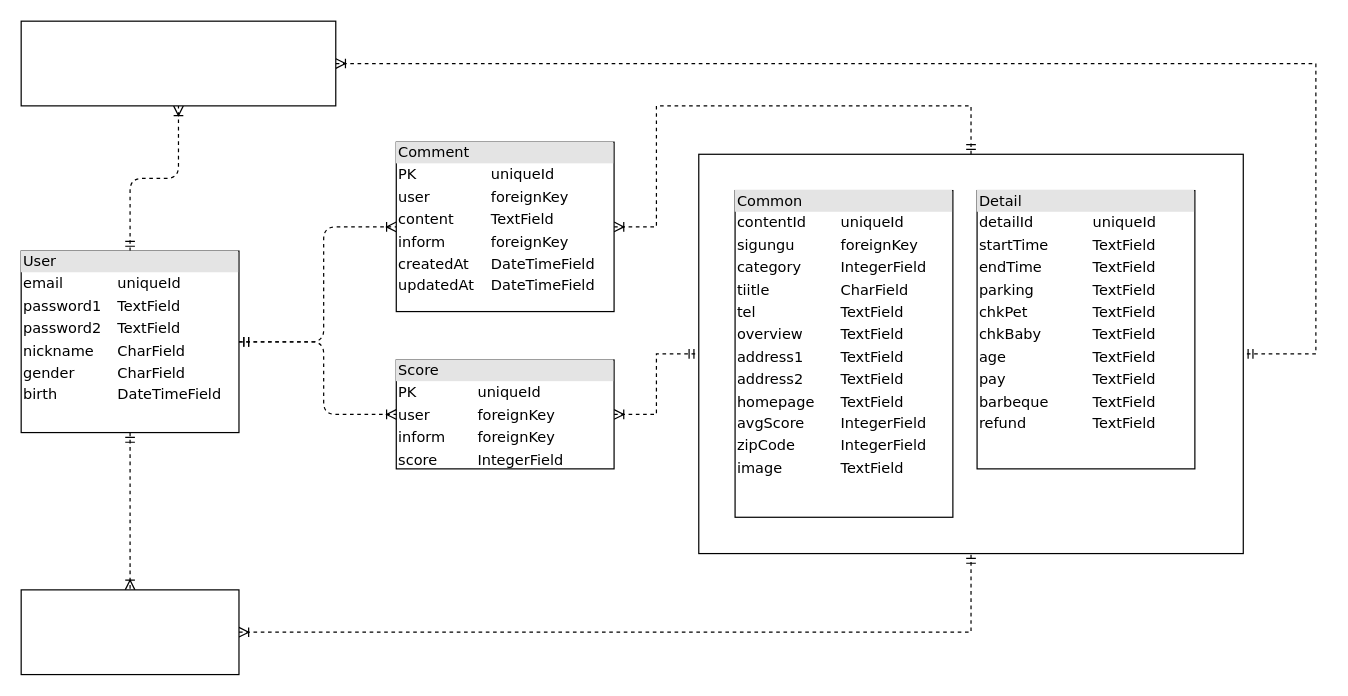
The diagram is 1348 pixels wide and 696 high, and some of its shapes have lost their labels. The centre of each missing label's shape, as x and y in pixels:
Bookmark user foreignKey inform foreignKey: (129,632)
stamp user foreignKey inform foreignKey: (178,63)
